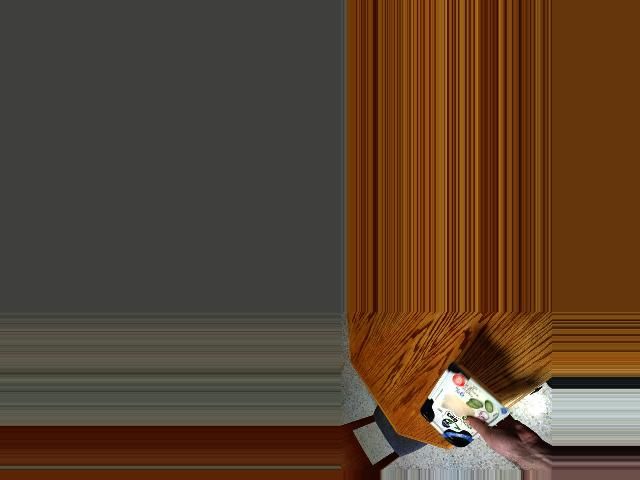cheese: (422, 375, 502, 436)
